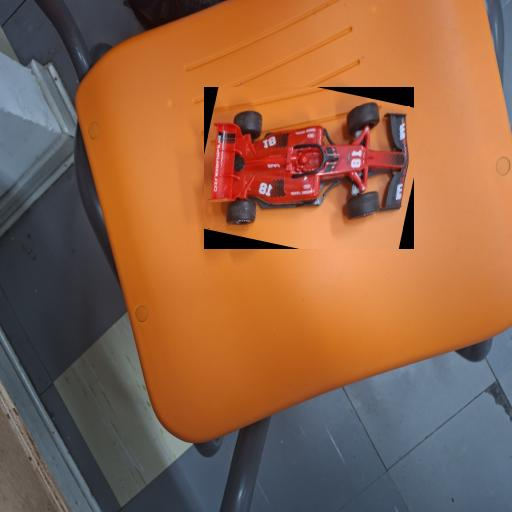carro: (208, 107, 410, 229)
